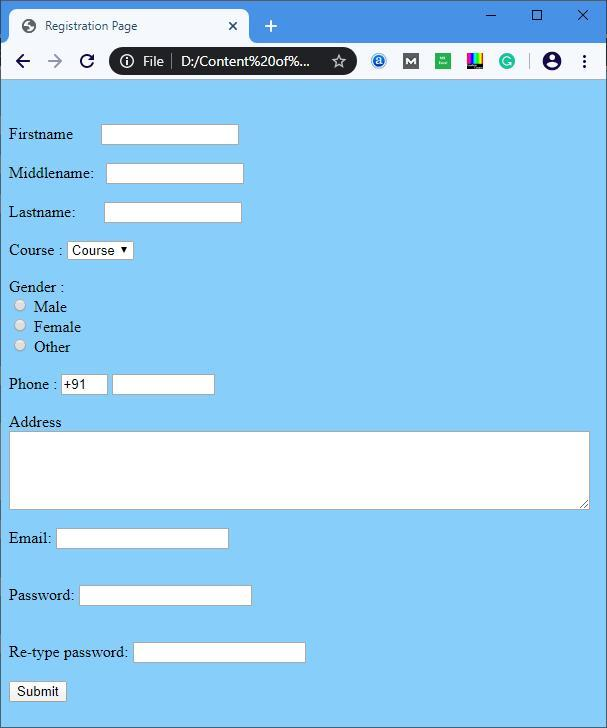button: (11, 683, 68, 702)
checkbox: (532, 9, 545, 24)
dropdown: (68, 243, 135, 261)
icon: (432, 52, 457, 74), (402, 51, 422, 72), (543, 52, 564, 72), (370, 52, 389, 73), (467, 51, 486, 72), (78, 53, 99, 72), (14, 52, 33, 72), (500, 52, 518, 73), (119, 53, 137, 71), (46, 53, 65, 70), (264, 19, 280, 36), (577, 8, 592, 25), (333, 54, 347, 72), (580, 54, 592, 73), (226, 22, 243, 35), (483, 12, 500, 23)
input: (80, 587, 253, 607), (58, 529, 230, 549), (134, 644, 307, 663), (105, 203, 243, 224), (102, 125, 240, 146), (108, 165, 245, 184), (114, 375, 215, 396), (62, 375, 108, 395)
label: (10, 644, 131, 663), (8, 163, 96, 183), (7, 204, 77, 221), (10, 586, 74, 603), (8, 241, 64, 260), (11, 128, 75, 144), (7, 416, 66, 433), (8, 373, 58, 393), (6, 279, 67, 295), (9, 530, 52, 548), (33, 300, 72, 317), (35, 321, 82, 335), (33, 341, 73, 356)
radio: (13, 319, 30, 335), (13, 339, 29, 355), (14, 298, 28, 315)
